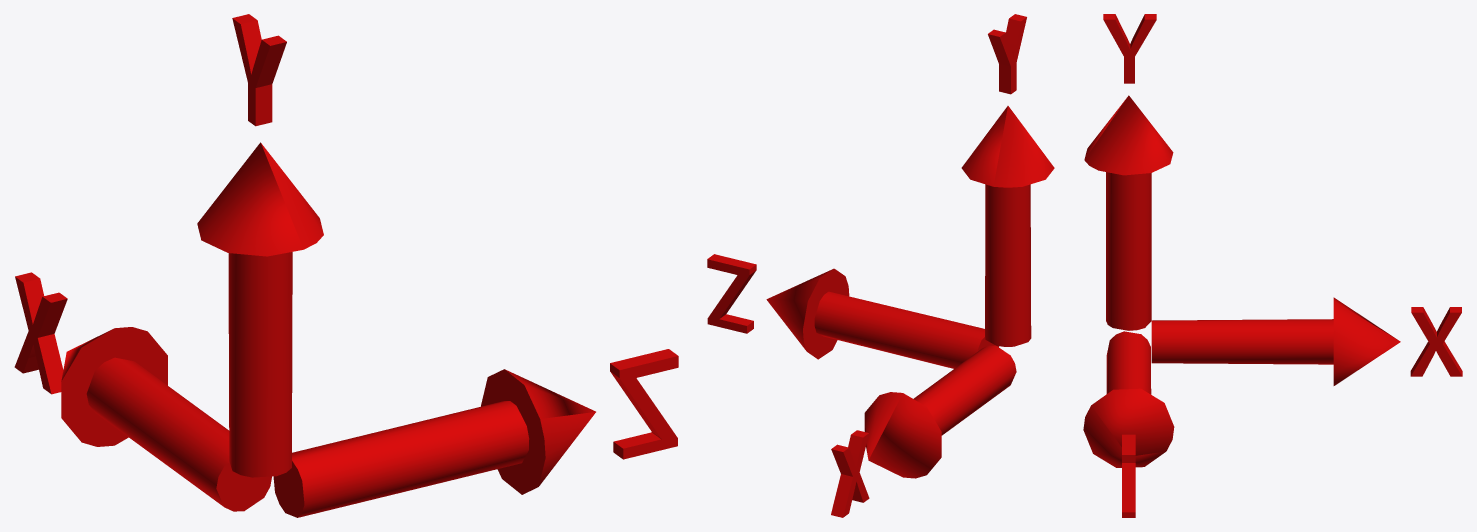
The model's file is coordinate.obj.
3 renders of one model, left to right at view 1: azimuth 30°, elevation 25°; view 2: azimuth 150°, elevation 25°; view 3: azimuth 270°, elevation 25°, orthographic. The views are drawn at different scales.
Visible parts, largest first — view 1: 7, 14, 1, 3, 11, 5, 9, 16, 13; view 2: 7, 14, 5, 1, 3, 11, 9, 16, 13; view 3: 1, 14, 11, 3, 5, 7, 9, 13, 16.
Part boxes in pixels (x1,y1,x2,y2): 7: (273,401,529,517); 14: (228,252,292,477); 1: (86,357,271,511); 3: (197,142,323,256); 11: (481,369,595,494); 5: (61,327,167,446); 9: (14,272,67,394); 16: (610,349,678,459); 13: (232,14,286,126); 7: (814,291,998,368); 14: (985,184,1031,346); 5: (864,392,941,478); 1: (913,345,1016,435); 3: (961,106,1054,187); 11: (766,268,849,359); 9: (831,430,869,517); 16: (707,254,756,333); 13: (988,14,1026,94); 1: (1151,319,1333,364); 14: (1106,172,1151,330); 11: (1083,388,1174,467); 3: (1084,95,1173,175); 5: (1333,297,1400,385); 7: (1106,331,1151,394); 9: (1410,307,1462,376); 13: (1103,14,1156,83); 16: (1122,434,1135,517).
Size of the model in its own units: 8.35 by 8.88 by 8.33.
